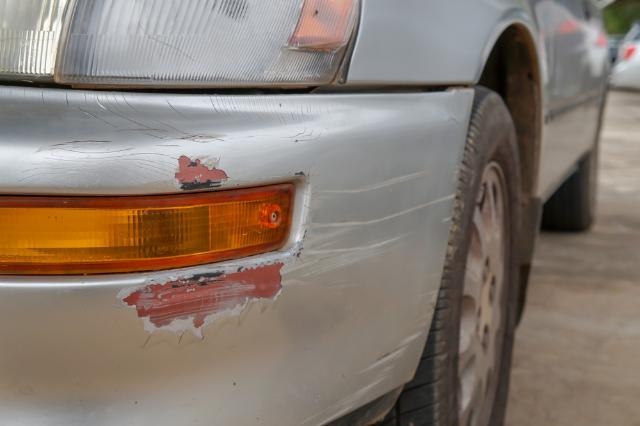scratch: (109, 166, 456, 421), (167, 151, 234, 193)
